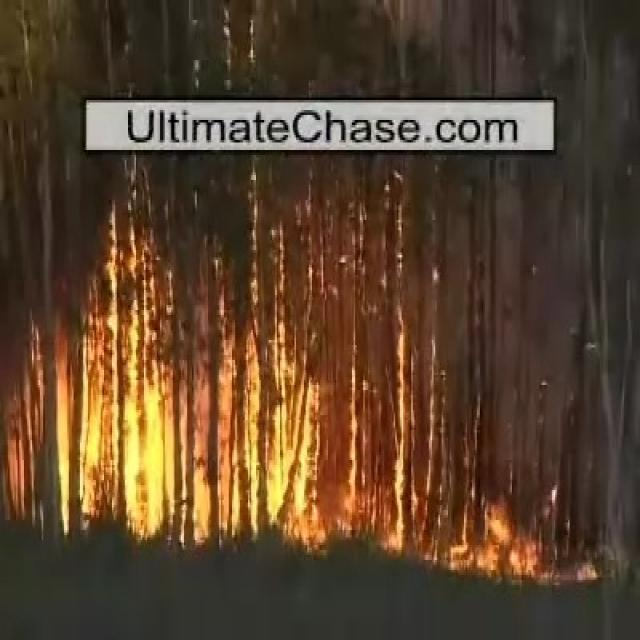Fire: (59, 340, 412, 558), (449, 507, 544, 578)
